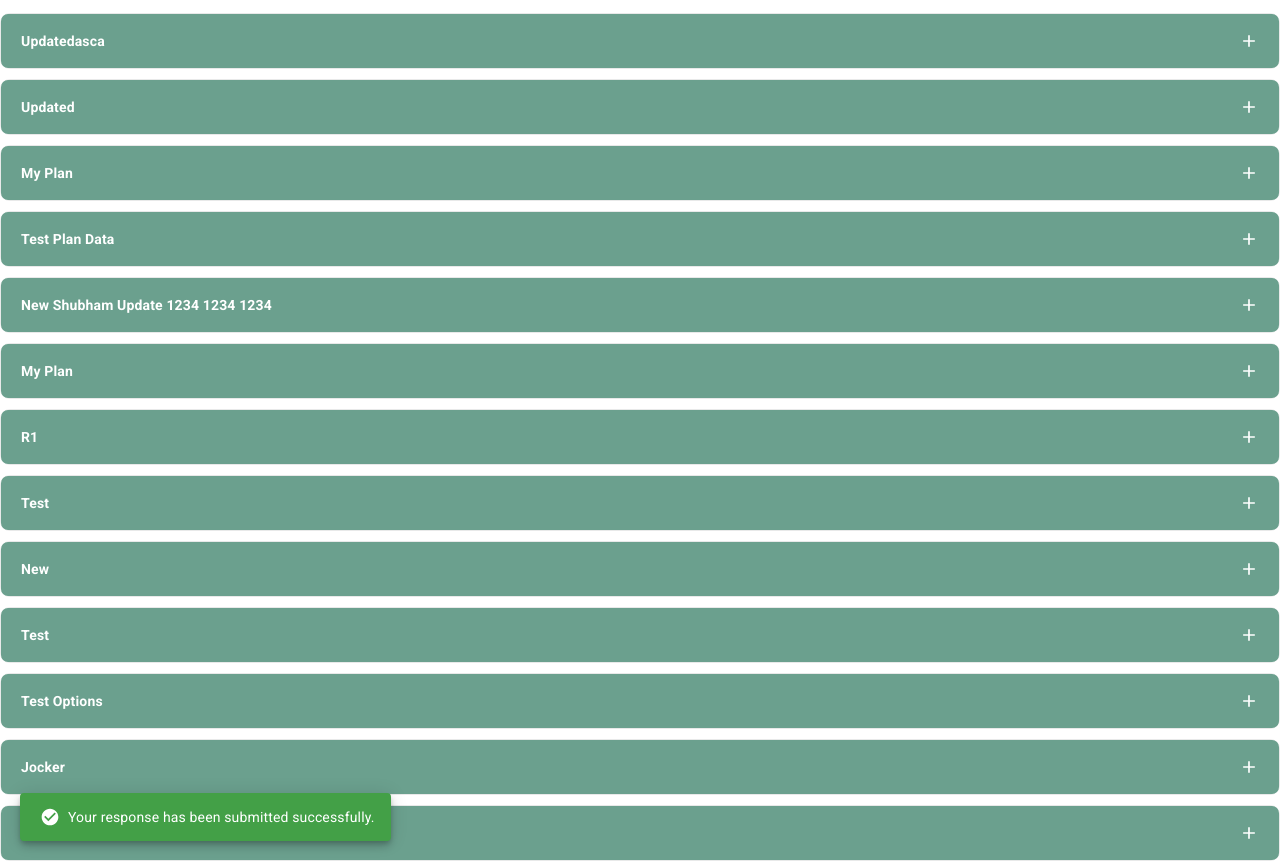
Test case: Patient relapse page › Cancle relapse plan data
Click the 6th icon with test id "toggleContent".
click(1249, 371)  # box [1239,361,1259,381]
(page scrolled)
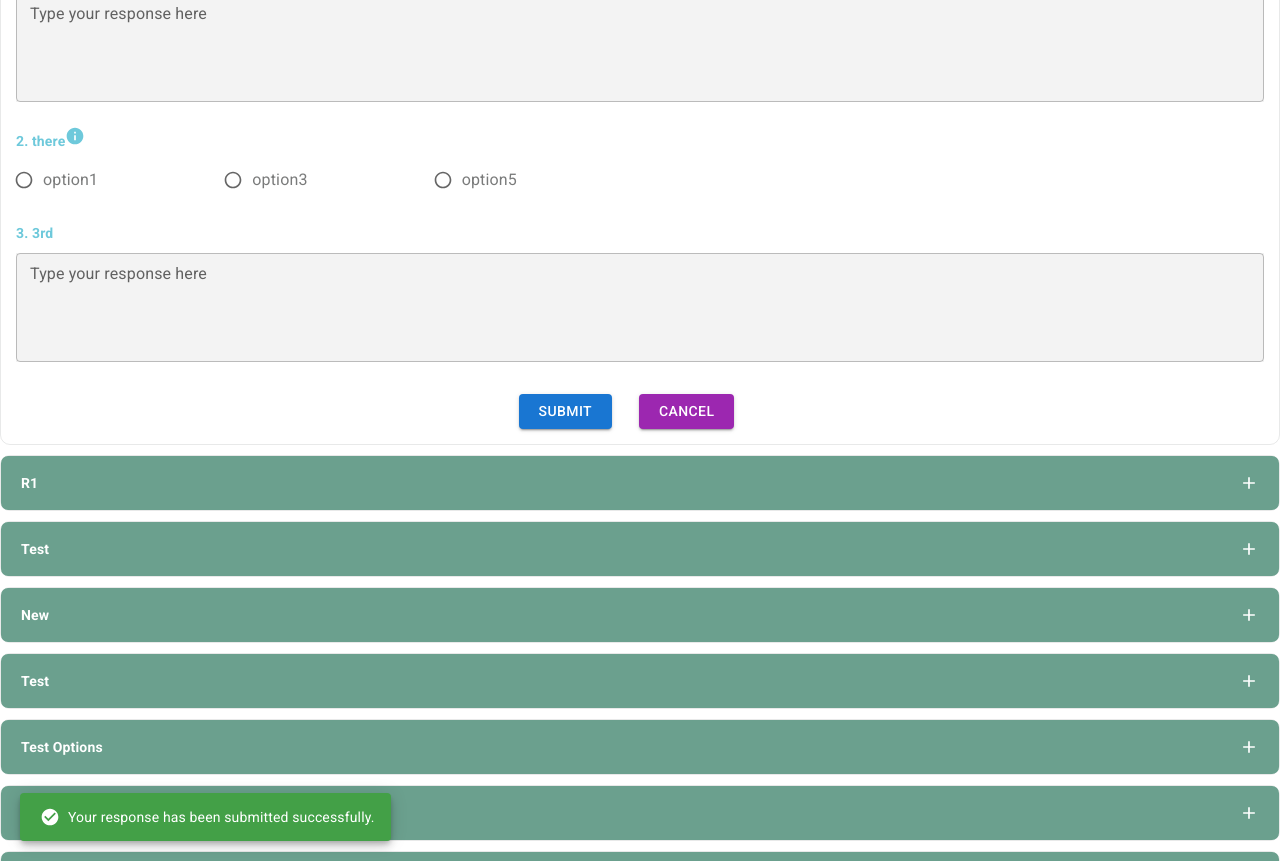
Expected: the button with test id "cancel-form" is shown
Click the button with test id "cancel-form".
click(687, 411)  # box [639,394,734,428]
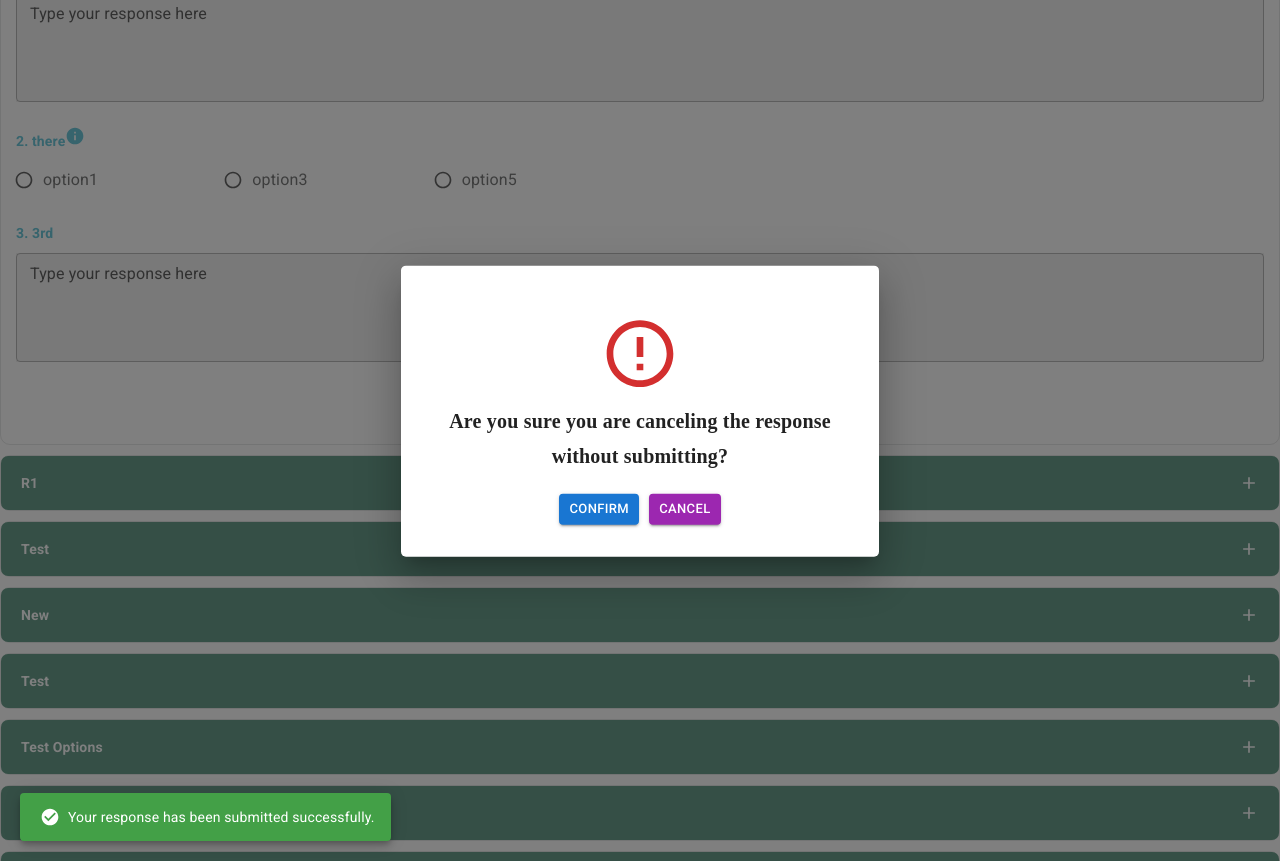
Expected: the heading "Are you sure you are canceling the response without submitting?" is shown, [433,404,847,474]
Click the button with test id "confirmButton".
click(599, 509)  # box [560,494,639,524]
(page scrolled)
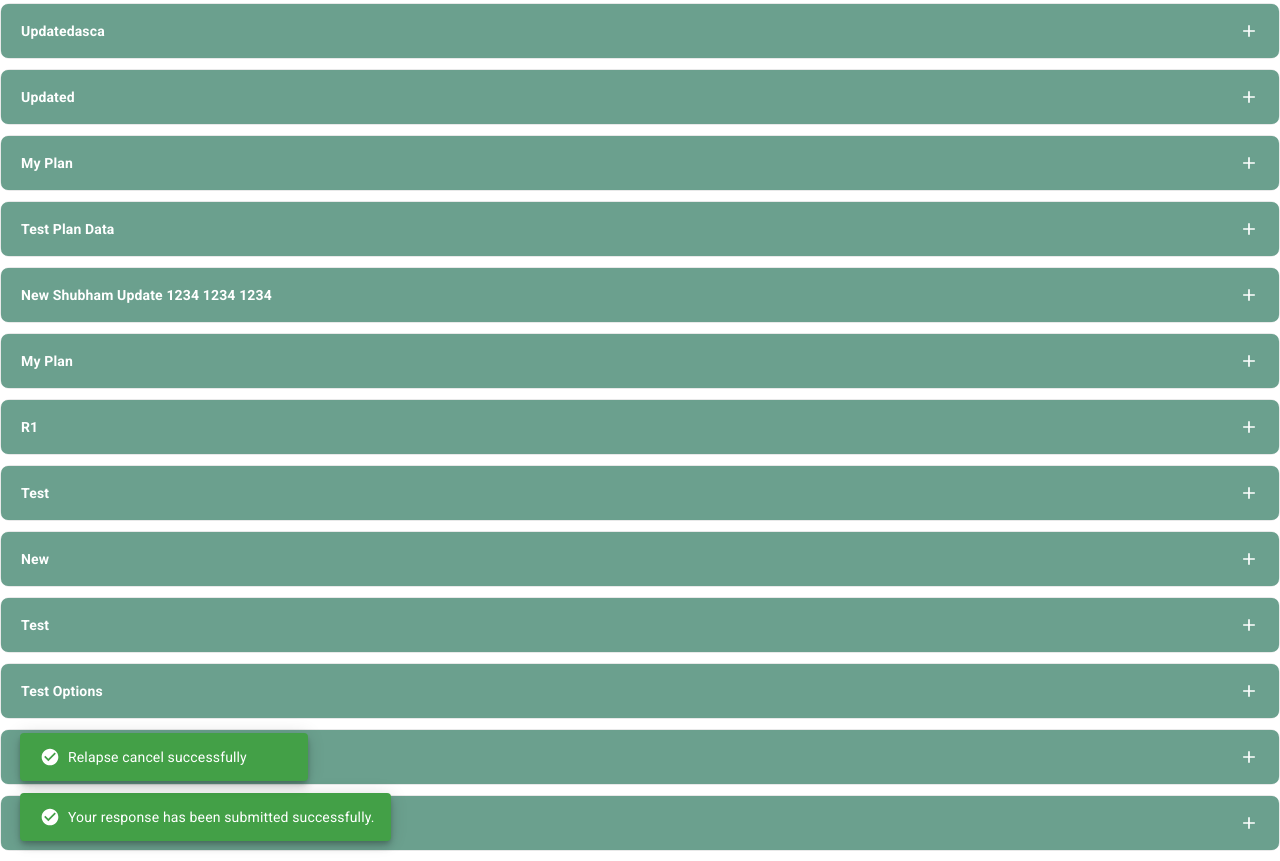
Expected: the text "Relapse cancel successfully" is shown, [40,747,247,767]
